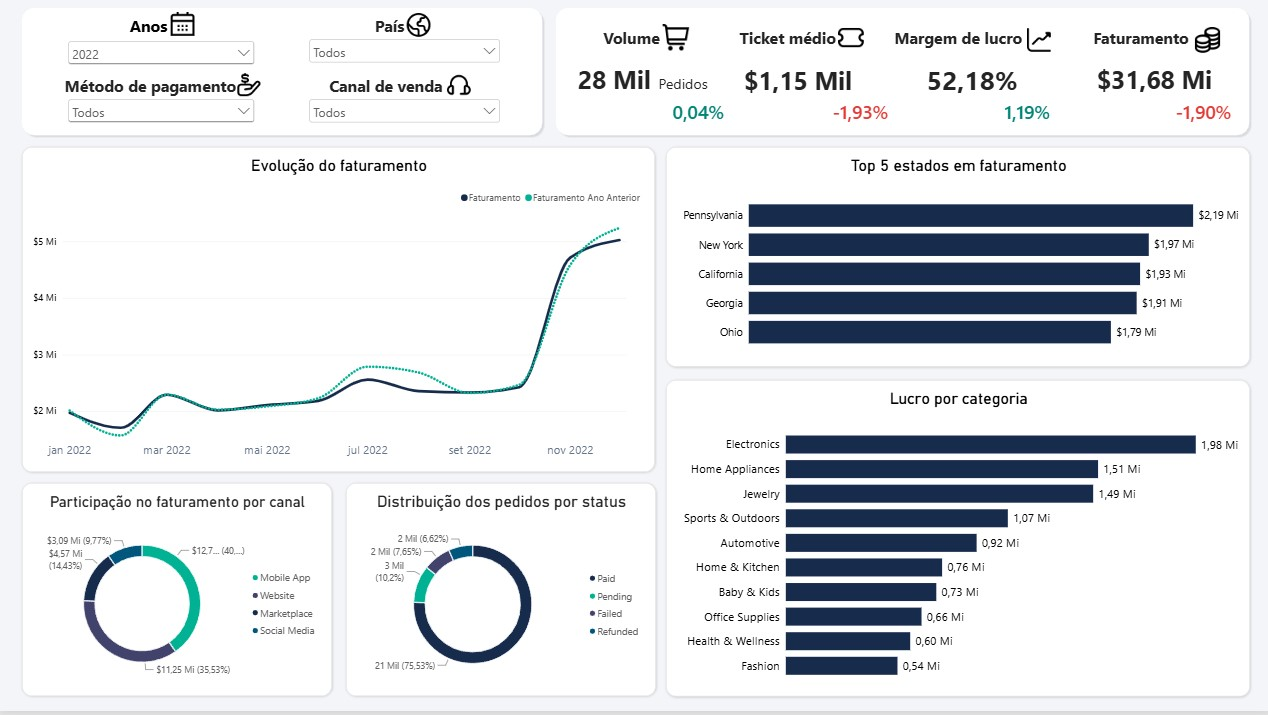

Layout of this report page (visuals, bound fields, positions):
{"tool":"powerbi","page":{"name":"Página 1","canvas":[1920,1080],"ordinal":0},"visuals":[{"type":"shape","box":[28.7,10.6,797.6,203.9],"z":0},{"type":"shape","box":[835.4,10.6,1058.9,203.9],"z":1000},{"type":"cardVisual","fields":{"Data":["Medidas.Faturamento"]},"box":[1630,42.3,232,161.8],"z":2000},{"type":"cardVisual","fields":{"Data":["Medidas.Total Pedidos"]},"box":[834.8,48.9,188.5,151.1],"z":3000},{"type":"cardVisual","fields":{"Data":["Medidas.Ticket Médio"]},"box":[1083.8,43.2,249,161.2],"z":4000},{"type":"cardVisual","fields":{"Data":["Medidas.Margem de Lucro"]},"box":[1351.5,50.4,237.5,149.7],"z":5000},{"type":"barChart","title":"Lucro por categoria","fields":{"Category":["produtos.pro_categoria"],"Y":["Medidas.Lucro Total"]},"box":[1007.5,578.6,882.3,477.8],"z":6000},{"type":"lineChart","title":"Evolução do faturamento","fields":{"Category":["Calendario.Ano_Mes"],"Y":["Medidas.Faturamento"],"Y2":["Medidas.Faturamento Ano Anterior"]},"box":[34.5,226,955.7,490.8],"z":7000},{"type":"slicer","fields":{"Values":["Calendario.Ano"]},"box":[99.3,61.9,290.7,63.3],"z":8000},{"type":"clusteredBarChart","title":"Top 5 estados em faturamento","fields":{"Category":["enderecos.end_estado"],"Y":["Medidas.Faturamento"]},"box":[1007.5,226,882.3,332.5],"z":9000},{"type":"textbox","box":[866.4,44.6,177,38.9],"z":10000},{"type":"textbox","box":[1075.1,44.6,231.7,34.5],"z":11000},{"type":"textbox","box":[1332.8,46.1,233.2,38.9],"z":12000},{"type":"textbox","box":[1619.2,46.1,211.6,47.5],"z":13000},{"type":"slicer","fields":{"Values":["enderecos.end_pais"]},"box":[463.4,59,297.9,64.8],"z":14000},{"type":"slicer","fields":{"Values":["marketing.mkt_canal_vendas"]},"box":[463.4,149.7,297.9,64.8],"z":15000},{"type":"textbox","box":[483.6,27.3,213,43.2],"z":16000},{"type":"textbox","box":[473.5,118,223.1,50.4],"z":17000},{"type":"image","box":[614.6,24.5,37.4,36],"z":18000},{"type":"image","box":[670.7,115.1,48.9,36],"z":19000},{"type":"image","box":[1794.8,46.1,61.9,38.9],"z":20000},{"type":"image","box":[1553,43.2,36,41.7],"z":21000},{"type":"image","box":[1268,40.3,38.9,40.3],"z":22000},{"type":"image","box":[1001.7,40.3,41.7,40.3],"z":23000},{"type":"image","box":[257.6,23,38.9,36],"z":24000},{"type":"textbox","box":[990.2,116.6,84.9,34.5],"z":25000},{"type":"slicer","fields":{"Values":["pagamentos.pag_metodo"]},"box":[99.3,149.7,290.7,64.8],"z":26000},{"type":"textbox","box":[179.9,27.3,92.1,37.4],"z":27000},{"type":"textbox","box":[87.8,118,282.1,50.4],"z":28000},{"type":"cardVisual","fields":{"Data":["Medidas.Crescimento YoY"]},"box":[1761.7,133.9,126.7,76.3],"z":29000},{"type":"cardVisual","fields":{"Data":["Medidas.Crescimento Margem YoY"]},"box":[1502.6,133.9,126.7,76.3],"z":30000},{"type":"cardVisual","fields":{"Data":["Medidas.Crescimento Ticket YoY"]},"box":[1243.5,133.9,126.7,76.3],"z":31000},{"type":"cardVisual","fields":{"Data":["Medidas.Crescimento Pedidos YoY"]},"box":[1001.7,133.9,126.7,76.3],"z":32000},{"type":"donutChart","title":"Distribuição dos pedidos por status","fields":{"Category":["pagamentos.pag_status"],"Y":["Medidas.Total Pedidos"]},"box":[523.9,734,467.8,322.4],"z":33000},{"type":"donutChart","title":"Participação no faturamento por canal","fields":{"Category":["marketing.mkt_canal_vendas"],"Y":["Medidas.Faturamento"]},"box":[34.5,734,467.8,322.4],"z":34000},{"type":"image","box":[358,114.8,39.3,34.7],"z":35000}]}

Visuals, with their boxes in screenshot pixels (x1, y1, x2, y2), scaled from the page's 1920x1080 canvas onto the 1268x715 screenshot:
shape: bbox(19, 7, 546, 142)
shape: bbox(552, 7, 1251, 142)
cardVisual - Medidas.Faturamento: bbox(1076, 28, 1230, 135)
cardVisual - Medidas.Total Pedidos: bbox(551, 32, 676, 132)
cardVisual - Medidas.Ticket Médio: bbox(716, 29, 880, 135)
cardVisual - Medidas.Margem de Lucro: bbox(893, 33, 1049, 132)
"Lucro por categoria" barChart: bbox(665, 383, 1248, 699)
"Evolução do faturamento" lineChart: bbox(23, 150, 654, 475)
slicer - Calendario.Ano: bbox(66, 41, 258, 83)
"Top 5 estados em faturamento" clusteredBarChart: bbox(665, 150, 1248, 370)
textbox: bbox(572, 30, 689, 55)
textbox: bbox(710, 30, 863, 52)
textbox: bbox(880, 31, 1034, 56)
textbox: bbox(1069, 31, 1209, 62)
slicer - enderecos.end_pais: bbox(306, 39, 503, 82)
slicer - marketing.mkt_canal_vendas: bbox(306, 99, 503, 142)
textbox: bbox(319, 18, 460, 47)
textbox: bbox(313, 78, 460, 111)
image: bbox(406, 16, 431, 40)
image: bbox(443, 76, 475, 100)
image: bbox(1185, 31, 1226, 56)
image: bbox(1026, 29, 1049, 56)
image: bbox(837, 27, 863, 53)
image: bbox(662, 27, 689, 53)
image: bbox(170, 15, 196, 39)
textbox: bbox(654, 77, 710, 100)
slicer - pagamentos.pag_metodo: bbox(66, 99, 258, 142)
textbox: bbox(119, 18, 180, 43)
textbox: bbox(58, 78, 244, 111)
cardVisual - Medidas.Crescimento YoY: bbox(1163, 89, 1247, 139)
cardVisual - Medidas.Crescimento Margem YoY: bbox(992, 89, 1076, 139)
cardVisual - Medidas.Crescimento Ticket YoY: bbox(821, 89, 905, 139)
cardVisual - Medidas.Crescimento Pedidos YoY: bbox(662, 89, 745, 139)
"Distribuição dos pedidos por status" donutChart: bbox(346, 486, 655, 699)
"Participação no faturamento por canal" donutChart: bbox(23, 486, 332, 699)
image: bbox(236, 76, 262, 99)
